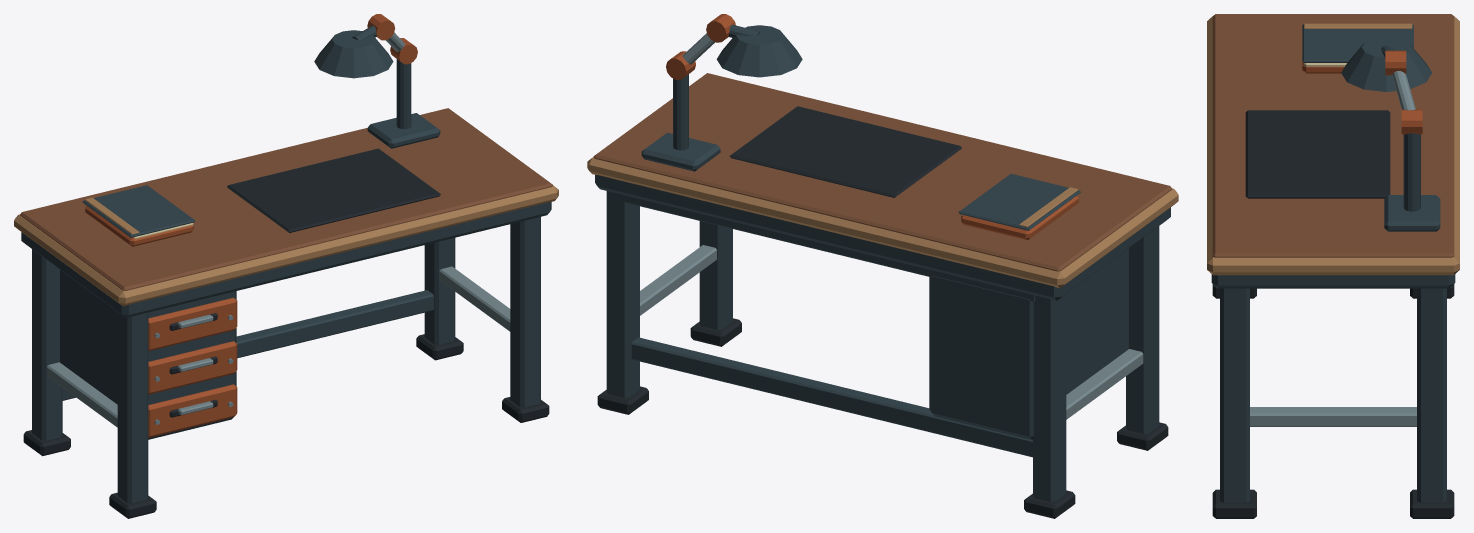
The model's file is wsc-kit-006-foreman-desk.glb.
3 views of the same model, side by side, from view 1: azimuth 30°, elevation 25°; view 2: azimuth 150°, elevation 25°; view 3: azimuth 270°, elevation 25° (orthographic). The views are drawn at different scales.
Visible parts, largest first — view 1: Foreman_Desk_Geometry, Analog_Lamp_And_Ledger; view 2: Foreman_Desk_Geometry, Analog_Lamp_And_Ledger; view 3: Foreman_Desk_Geometry, Analog_Lamp_And_Ledger.
Boxes of the visible parts, bbox=[...] form: Foreman_Desk_Geometry: bbox=[14, 108, 558, 518]; Analog_Lamp_And_Ledger: bbox=[82, 14, 440, 246]; Foreman_Desk_Geometry: bbox=[587, 73, 1178, 518]; Analog_Lamp_And_Ledger: bbox=[641, 14, 1080, 239]; Foreman_Desk_Geometry: bbox=[1207, 14, 1459, 518]; Analog_Lamp_And_Ledger: bbox=[1245, 23, 1440, 231].
Size of the model in its own units: 1.78 by 1.4 by 0.77.
